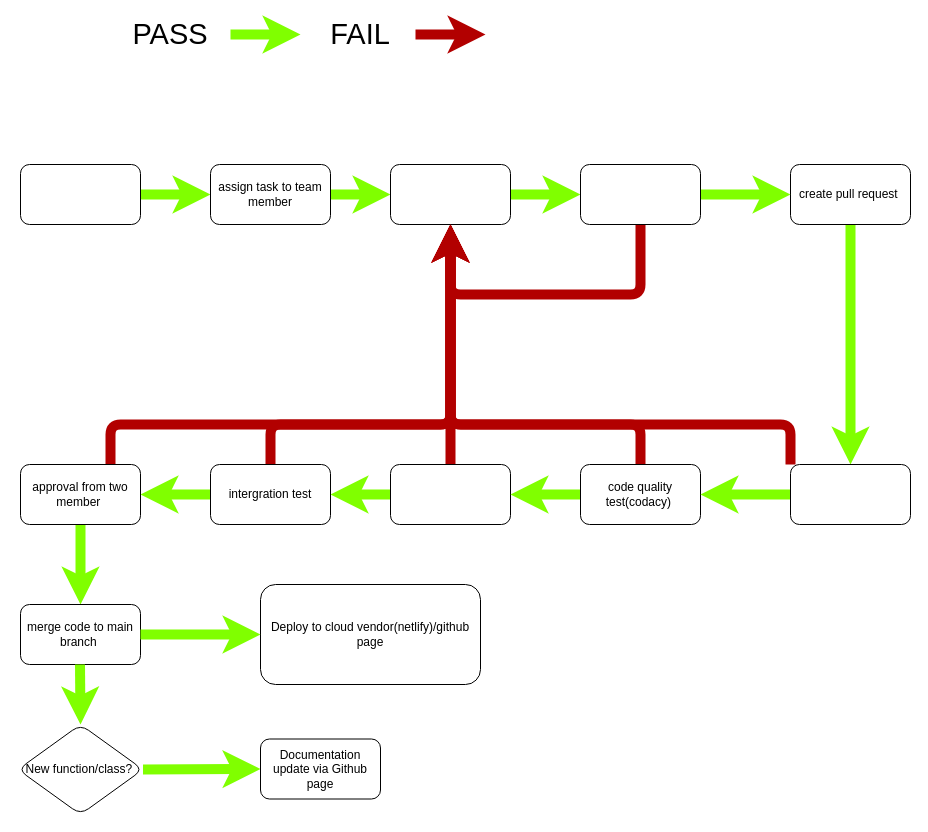
This 928x832 diagram has some shape labels left out. The shapes that lost their labels are listed below. From the top down, each one's centre as x and y in pixels, then its label:
At (80,194): "new feature/function introduced".
At (450,194): "write code in separate branch".
At (640,194): "test code locally".
At (450,494): "unit test".
At (850,494): "HTML/CSS/JS linter test(super linter)".
